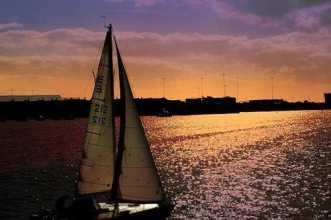fanchuan: (72, 21, 170, 212)
